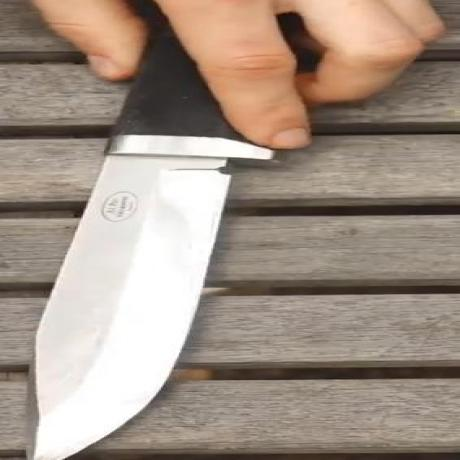1: (23, 0, 460, 153)
weapon: (14, 118, 284, 460)
